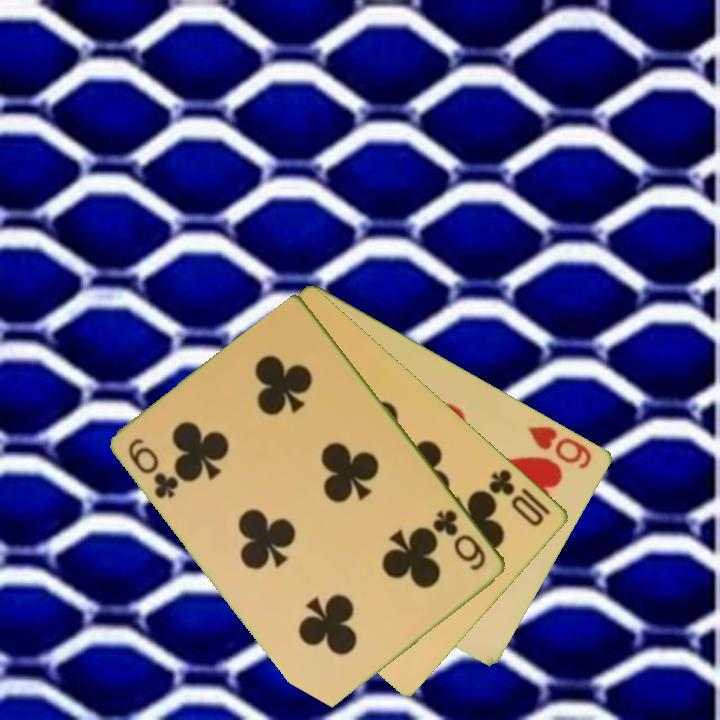10c: (485, 465, 554, 530)
6c: (430, 506, 490, 574), (125, 434, 183, 502)
6h: (525, 422, 596, 472)
